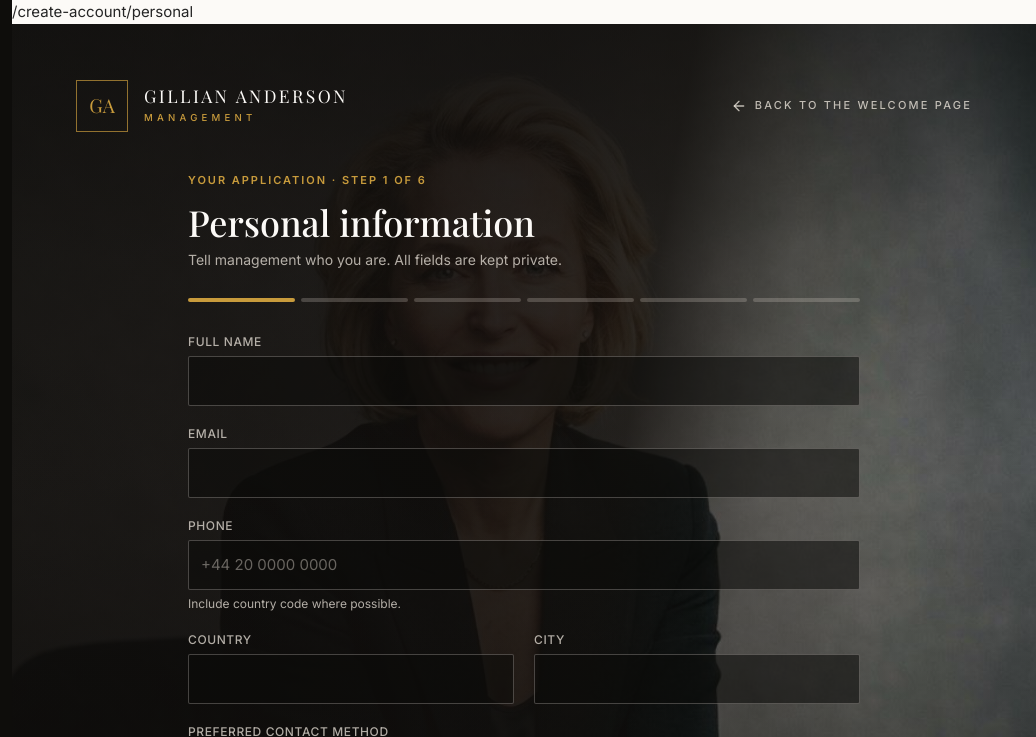
Test case: application wizard › rejects an invalid email on step 1
Expected: the heading "Personal information" is shown, [188,198,535,246]
Type "Ada Lovelace" into the field labelled "Full name" at (524, 381), box [188,356,860,406]
Type "not-an-email" into the field labelled "Email" at (524, 473), box [188,448,860,498]
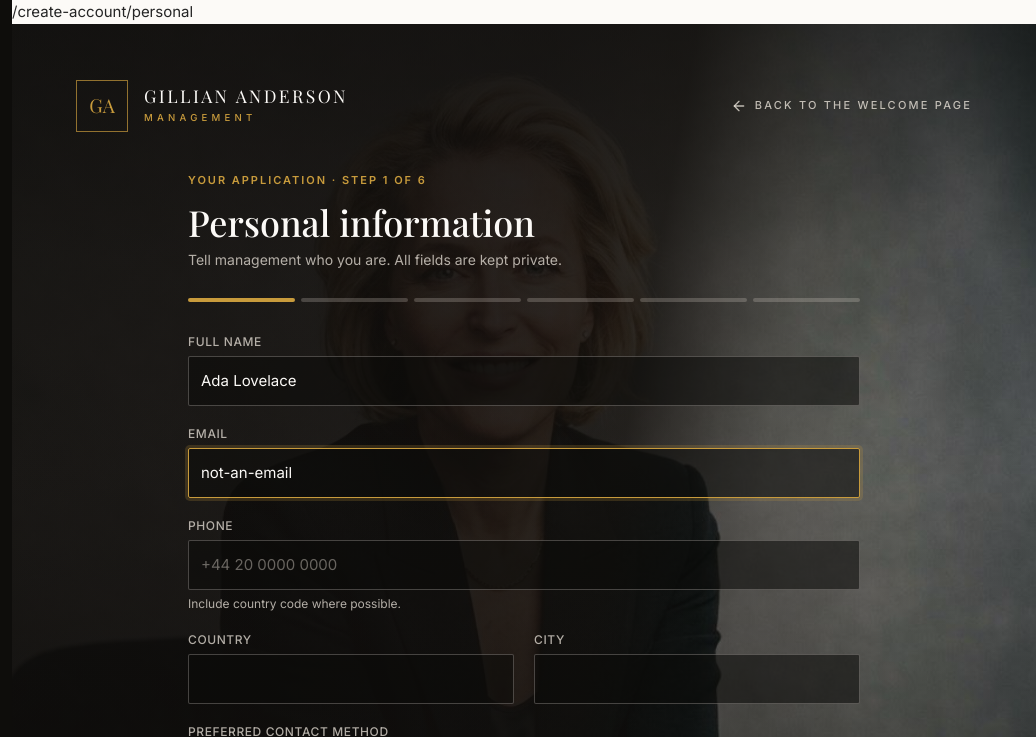
Type "+44 20 7946 0000" into the field labelled "Phone" at (524, 565), box [188,540,860,590]
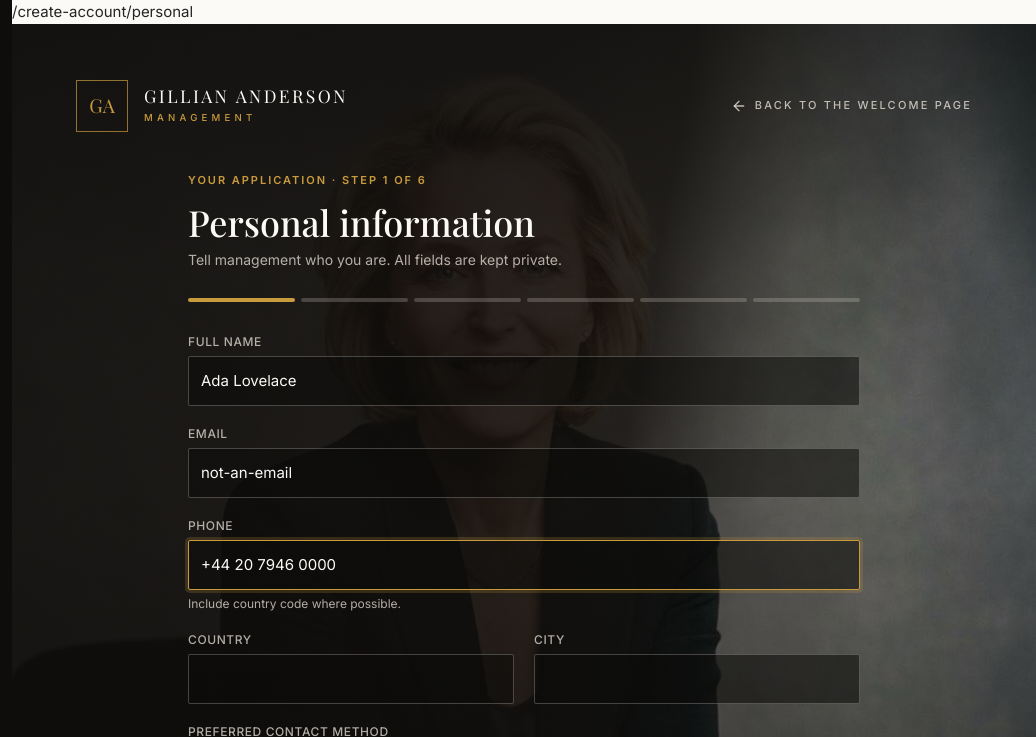
Type "United Kingdom" into the field labelled "Country" at (351, 679), box [188,654,514,704]
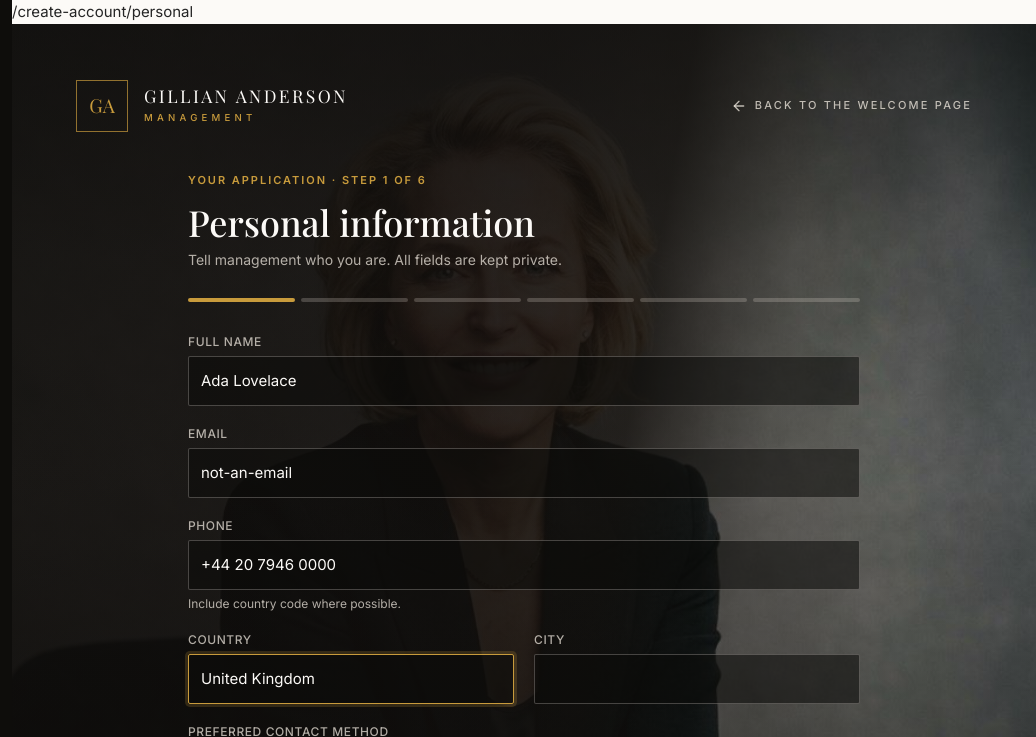
Type "London" into the field labelled "City" at (697, 679), box [534,654,860,704]
(page scrolled)
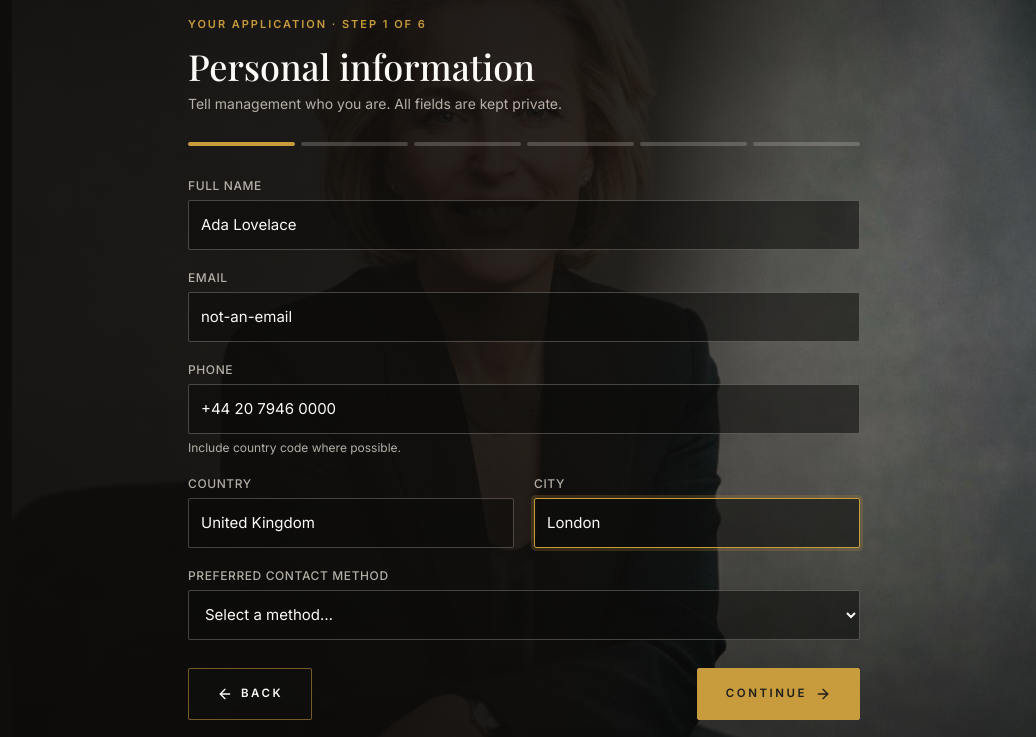
Select "Email" in the dropdown labelled "Preferred contact method" at (524, 615), box [188,590,860,640]
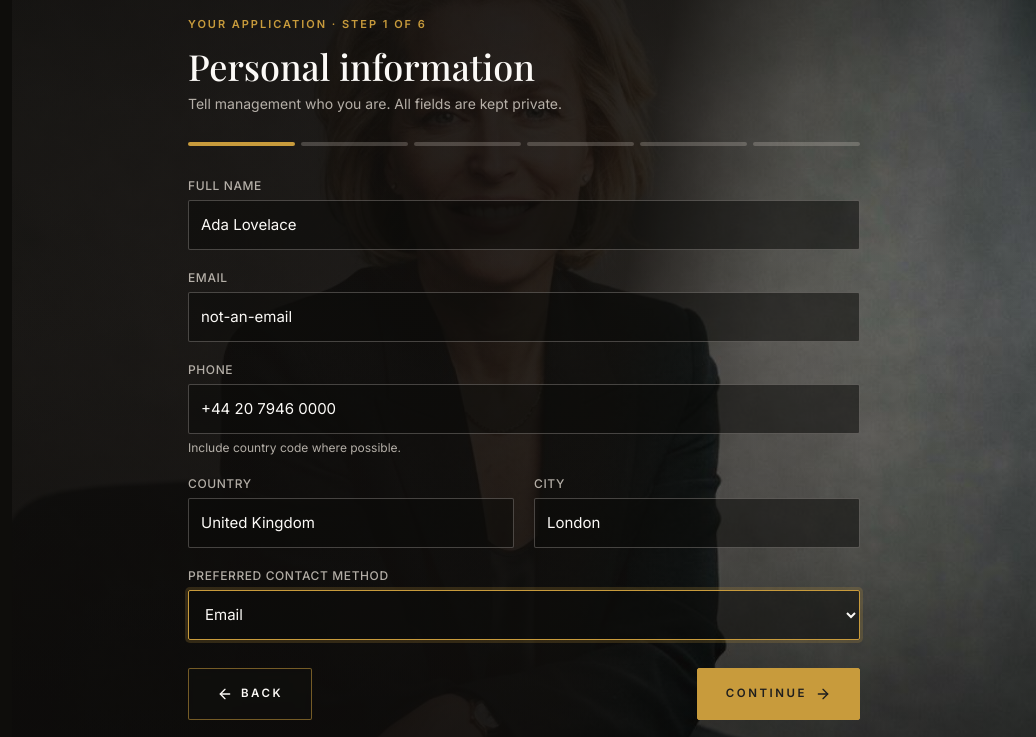
Click the button "Continue" at (778, 694), box [697,668,860,720]
(page scrolled)
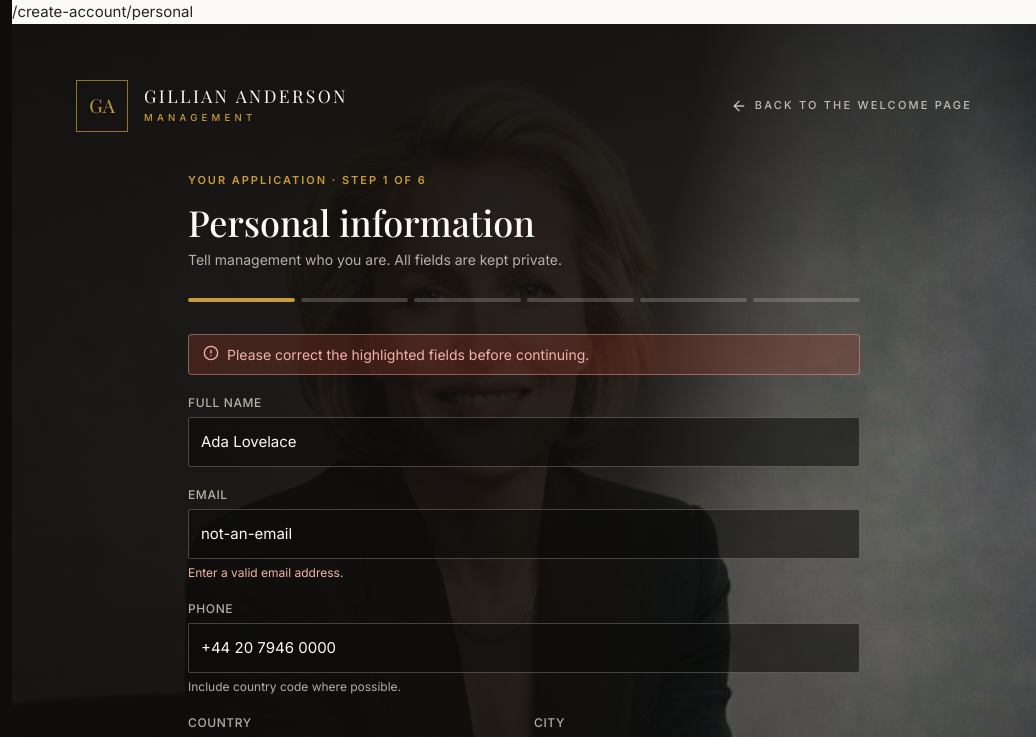
Expected: the text with test id "location" reads "/create-account/personal", [12,2,193,21]
Expected: the text "Enter a valid email address." is shown, [188,565,343,580]
